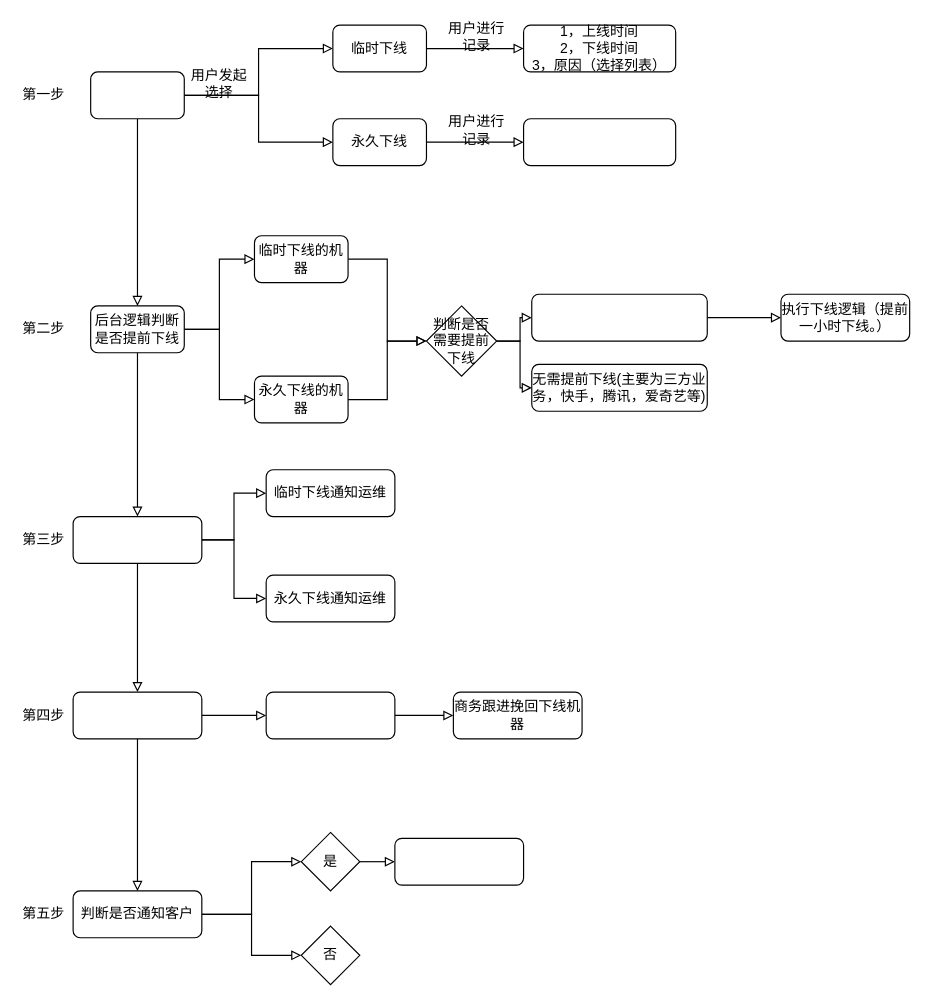
Image size: 930x1005. Some labels were removed from this diagram. Each missing label, with the centre of its shape:
"1，下线时间 2，原因（选择列表）" belongs at (x=599, y=142).
"判断是否通知业务运维" belongs at (x=137, y=539).
"判断是否通知商务" belongs at (x=137, y=715).
"售后跟进群内通知客户" belongs at (x=459, y=861).
"永久下线通知商务（可在sgp打标签或钉钉消息通知）" belongs at (x=330, y=715).
"节点之家APP" belongs at (x=137, y=95).
"需要提前下线（主要为点播，直连，xcdn）" belongs at (x=619, y=317).
